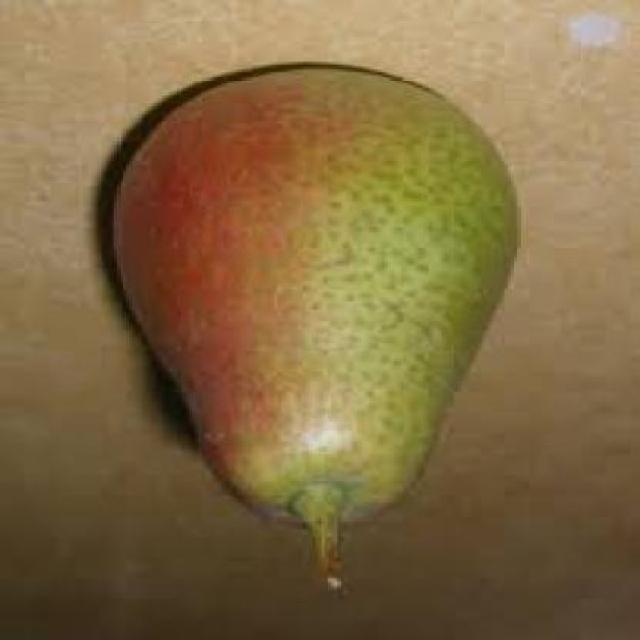BIODEGRADABLE: (113, 66, 522, 594)
